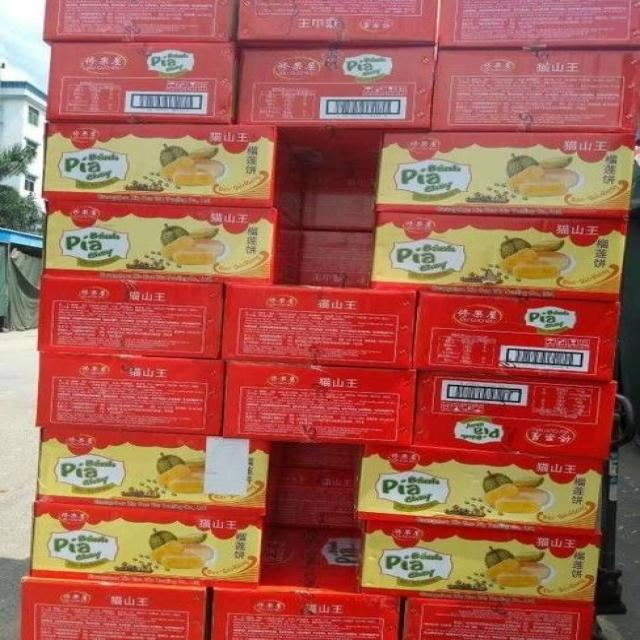box: (42, 123, 303, 228), (370, 210, 630, 301), (375, 131, 636, 221), (357, 442, 605, 534), (42, 201, 302, 287), (35, 427, 283, 516), (30, 501, 274, 591), (359, 520, 601, 607), (413, 291, 620, 383), (413, 370, 618, 460), (430, 49, 640, 132), (237, 46, 438, 132), (219, 284, 417, 370), (222, 358, 417, 445), (46, 41, 240, 124), (35, 351, 224, 435), (38, 275, 224, 358), (21, 577, 212, 640), (437, 0, 640, 50), (211, 589, 401, 640), (237, 0, 438, 47), (45, 0, 237, 45), (403, 597, 594, 640), (257, 525, 365, 593), (273, 466, 367, 528), (302, 167, 378, 231), (299, 229, 374, 288), (279, 440, 362, 471)
